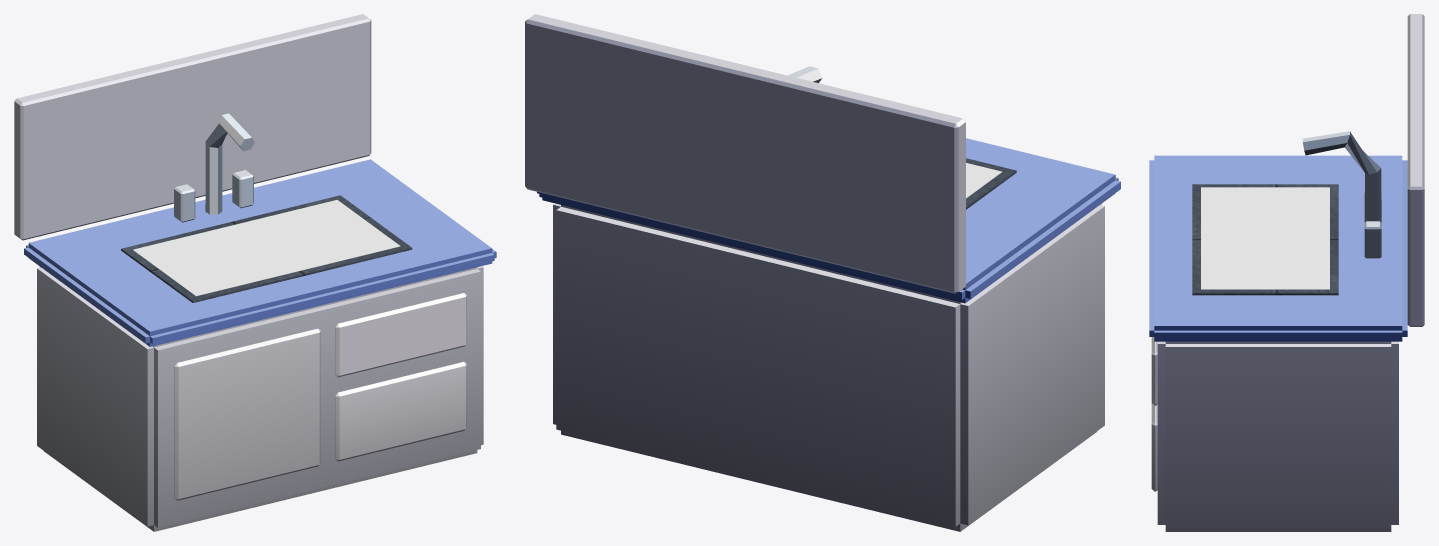
File: sink.glb
The picture shows the model from 3 angles, left to right: view 1: azimuth 30°, elevation 25°; view 2: azimuth 150°, elevation 25°; view 3: azimuth 270°, elevation 25°; orthographic projection. The views are drawn at different scales.
Visible parts, largest first — view 1: sink; view 2: sink; view 3: sink.
Part boxes in pixels (box(x1,y1,x2,y2)): sink: box(14, 14, 496, 531); sink: box(525, 14, 1120, 531); sink: box(1149, 14, 1424, 531).
Bounding box in the file's own units: 0.96 × 0.902 × 0.64.
Materials: 6 (6 with a texture image).
